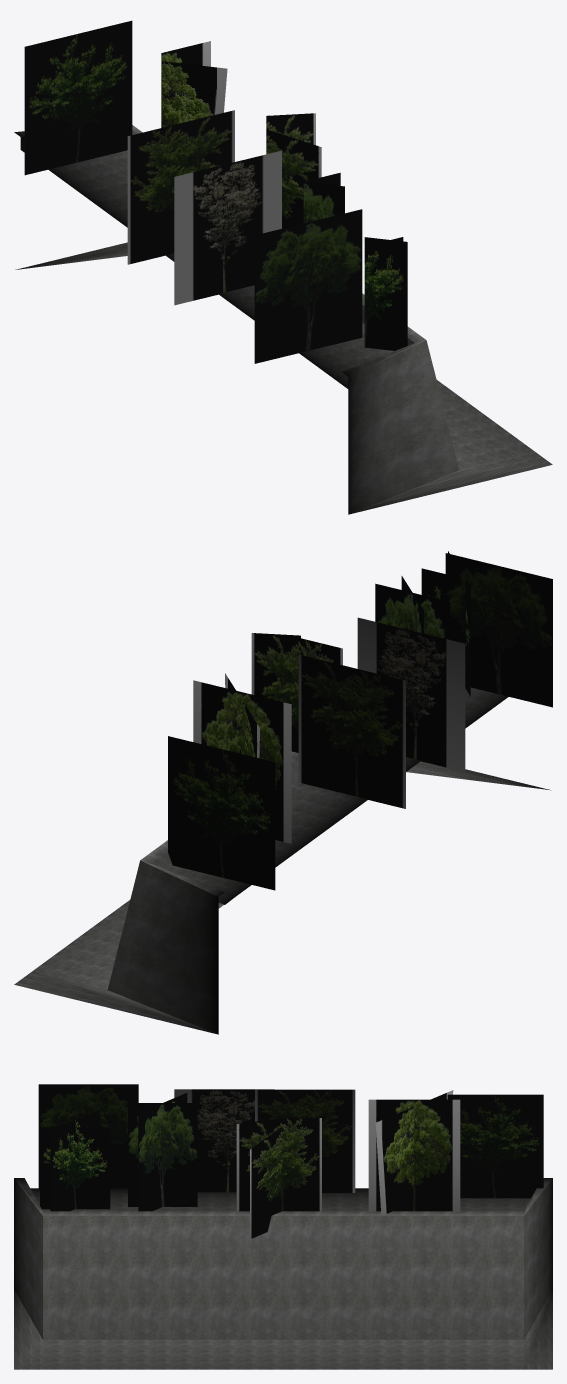
The model's file is KIN_AMB_WOLL0_R.glb.
The picture shows the model from 3 angles, top to bottom: view 1: azimuth 30°, elevation 25°; view 2: azimuth 150°, elevation 25°; view 3: azimuth 270°, elevation 25°; orthographic projection. The views are drawn at different scales.
Visible parts, largest first — view 1: AMB4, bone4_7, bone4_0, bone4_3, bone4_5, bone4_2, bone4_6; view 2: AMB4, bone4_3, bone4_0, bone4_7, bone4_5, bone4_2, bone4_6; view 3: AMB4, bone4_3, bone4_7, bone4_2, bone4_0, bone4_6, bone4_5.
Boxes of the visible parts, left/top/right/bottom form: AMB4: left=14, top=125, right=552, bottom=514; bone4_7: left=254, top=209, right=407, bottom=363; bone4_0: left=24, top=20, right=132, bottom=175; bone4_3: left=127, top=110, right=321, bottom=264; bone4_5: left=174, top=150, right=281, bottom=305; bone4_2: left=161, top=41, right=227, bottom=127; bone4_6: left=303, top=172, right=344, bottom=223; AMB4: left=14, top=687, right=550, bottom=1034; bone4_3: left=251, top=633, right=405, bottom=808; bone4_0: left=168, top=736, right=275, bottom=890; bone4_7: left=421, top=551, right=552, bottom=707; bone4_5: left=357, top=617, right=465, bottom=771; bone4_2: left=193, top=673, right=291, bottom=843; bone4_6: left=375, top=576, right=449, bottom=639; AMB4: left=14, top=1178, right=552, bottom=1369; bone4_3: left=236, top=1089, right=355, bottom=1239; bone4_7: left=38, top=1084, right=138, bottom=1211; bone4_2: left=368, top=1090, right=460, bottom=1218; bone4_0: left=447, top=1094, right=543, bottom=1198; bone4_6: left=128, top=1093, right=197, bottom=1211; bone4_5: left=174, top=1089, right=274, bottom=1192.
Bounding box in the file's own units: 48.76 × 48.98 × 112.
Materials: 8 (8 with a texture image).
